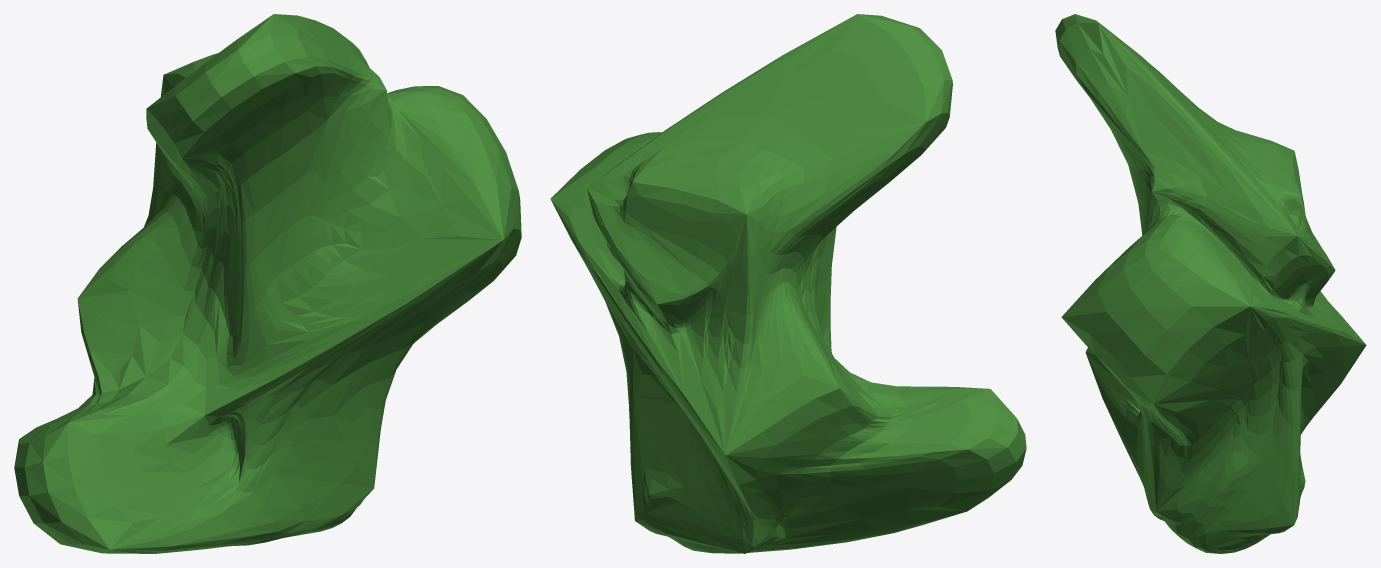
The picture shows the model from 3 angles, left to right: view 1: azimuth 30°, elevation 25°; view 2: azimuth 150°, elevation 25°; view 3: azimuth 270°, elevation 25°; orthographic projection. The views are drawn at different scales.
Visible parts, largest first — view 1: 184_Cube.764; view 2: 184_Cube.764; view 3: 184_Cube.764.
Part boxes in pixels (x1,y1,x2,y2): 184_Cube.764: (14, 14, 521, 553); 184_Cube.764: (550, 14, 1026, 553); 184_Cube.764: (1055, 14, 1366, 553).
Size of the model in its own units: 14.77 by 16.99 by 9.81.
